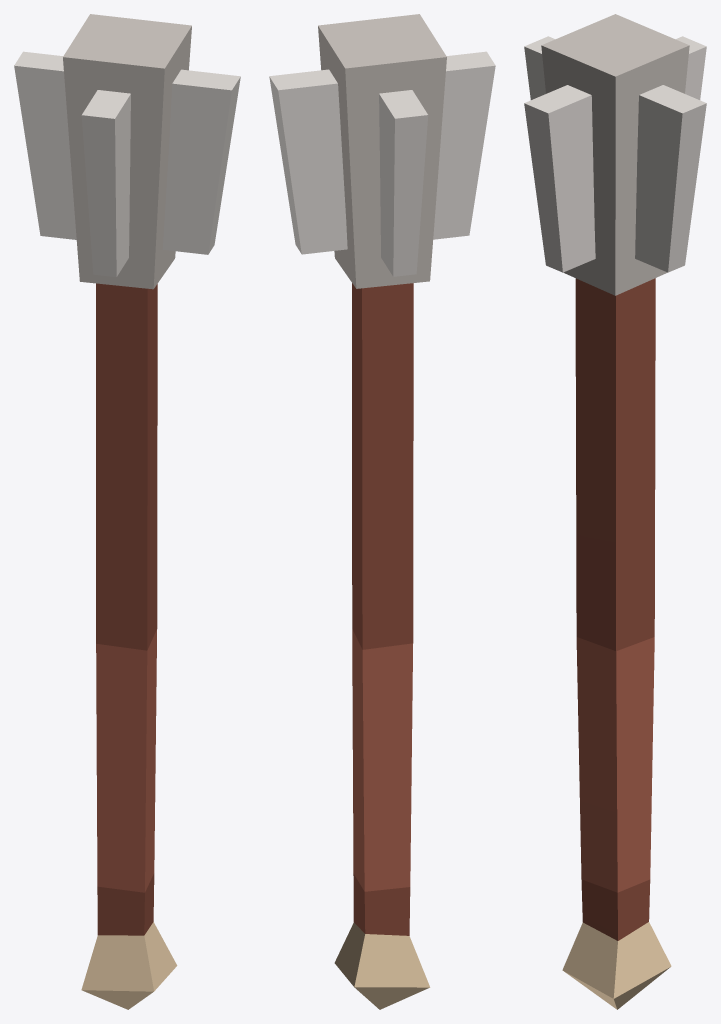
File: mace_2.glb
The picture shows the model from 3 angles, left to right: view 1: azimuth 30°, elevation 25°; view 2: azimuth 150°, elevation 25°; view 3: azimuth 270°, elevation 25°; orthographic projection.
Visible parts, largest first — view 1: mace_2.001; view 2: mace_2.001; view 3: mace_2.001.
Part boxes in pixels (x1,y1,x2,y2): mace_2.001: [14, 14, 240, 1009]; mace_2.001: [269, 14, 495, 1009]; mace_2.001: [524, 14, 706, 1009].
Bounding box in the file's own units: 0.1718 × 1 × 0.1718.
Materials: 1 (1 with a texture image).
